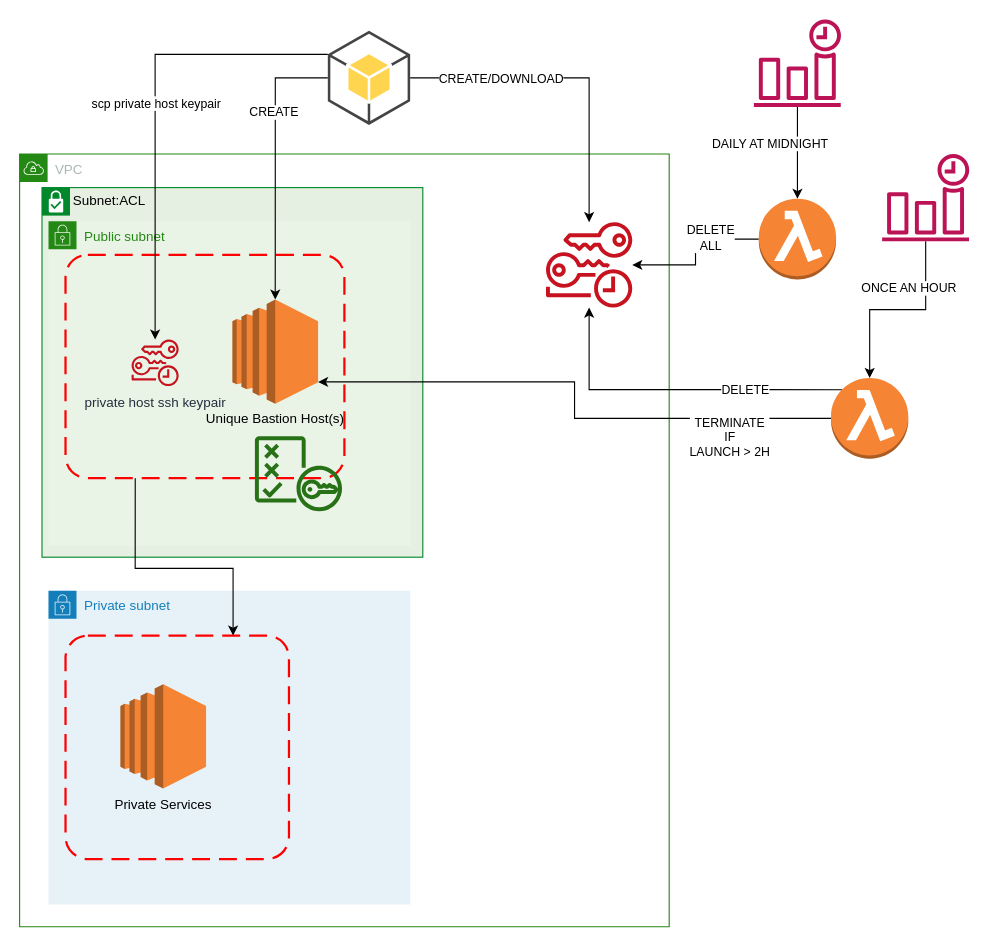
The diagram is 989 pixels wide and 946 high, and some of its shapes have lost their labels. The centre of each missing label's shape, as x and y in pixels:
"Bastion One-time EC2 KeyPair" belongs at point 588,264.
"User Iniitated Bastion Create" belongs at point 368,77.
"yum update on start shutdown/terminate on logout" belongs at point 298,473.
